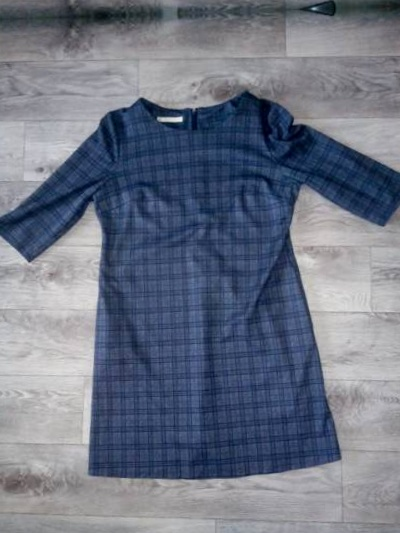Dress: (0, 78, 400, 498), (0, 92, 1, 512)
